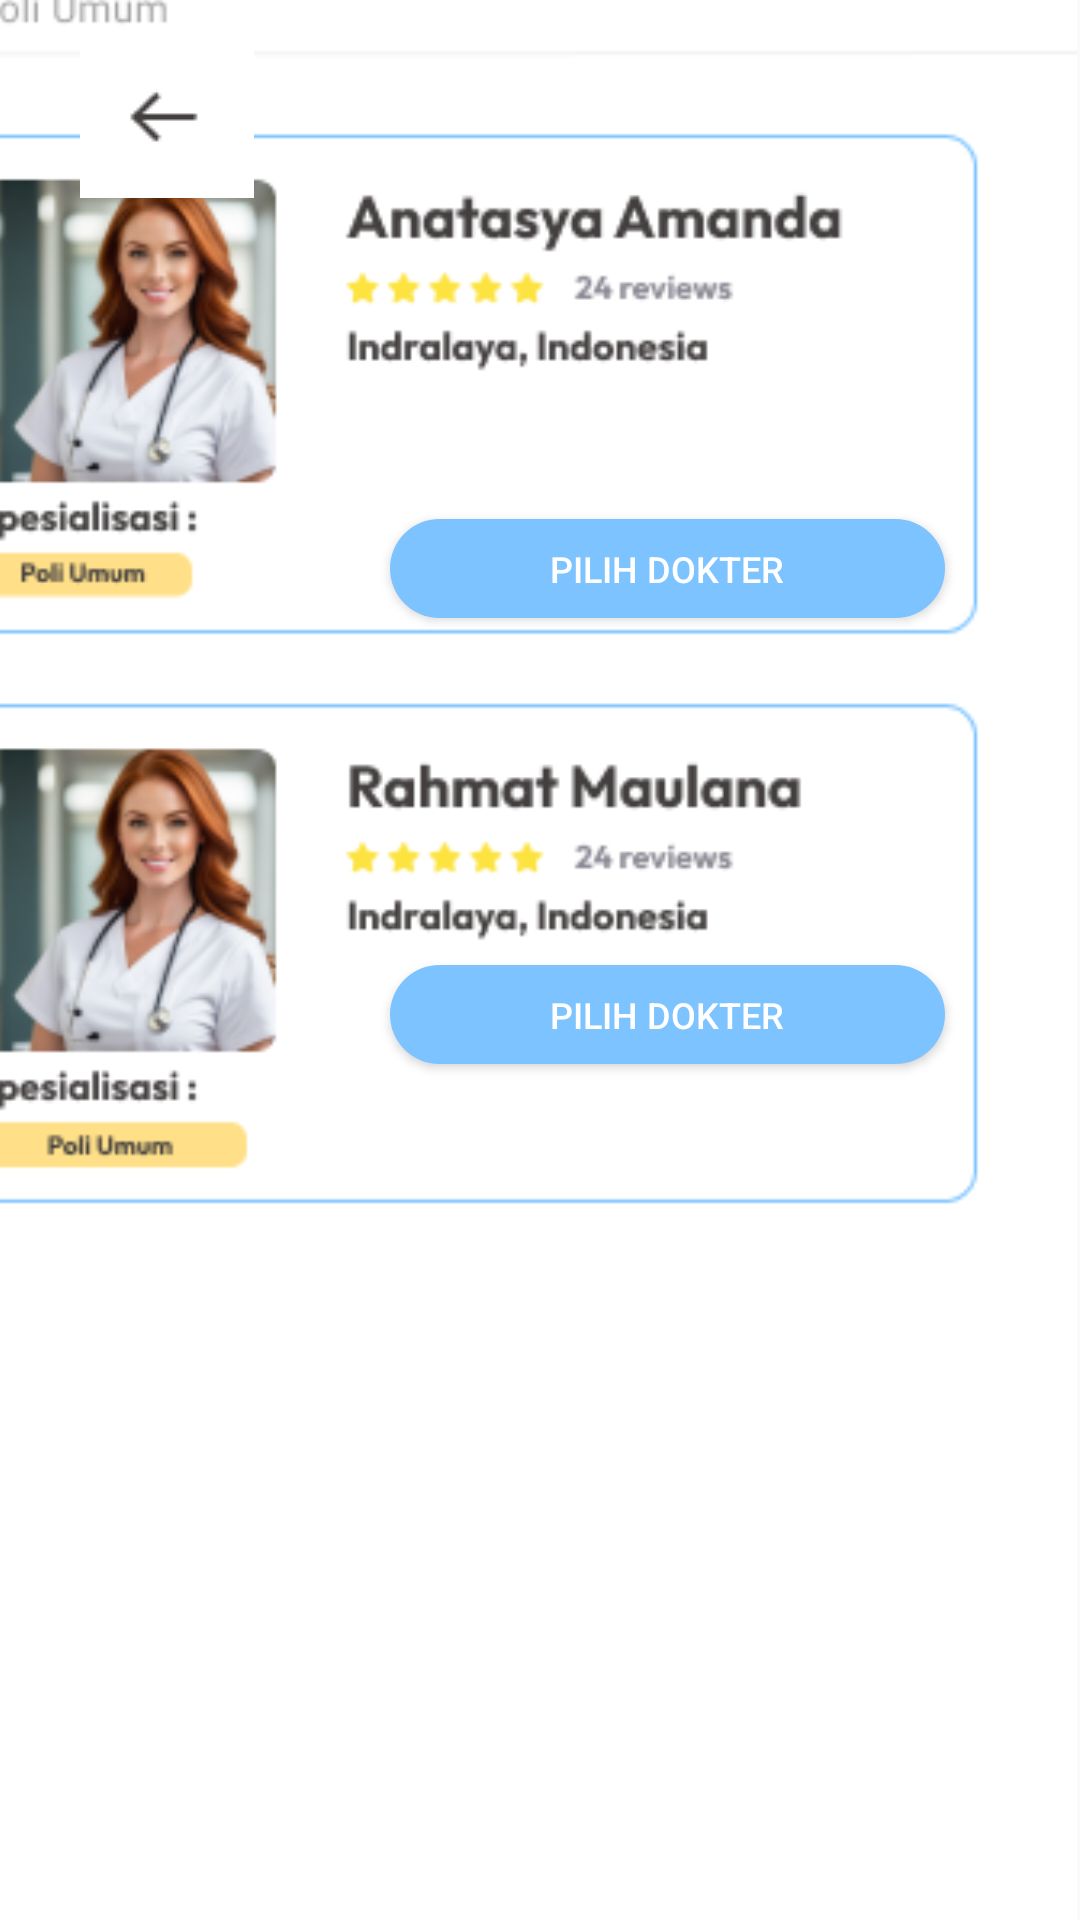

Named icons in this screenshot (1080px×1920px) and their centers, point (x, y):
arrowleft: point (164, 117)
